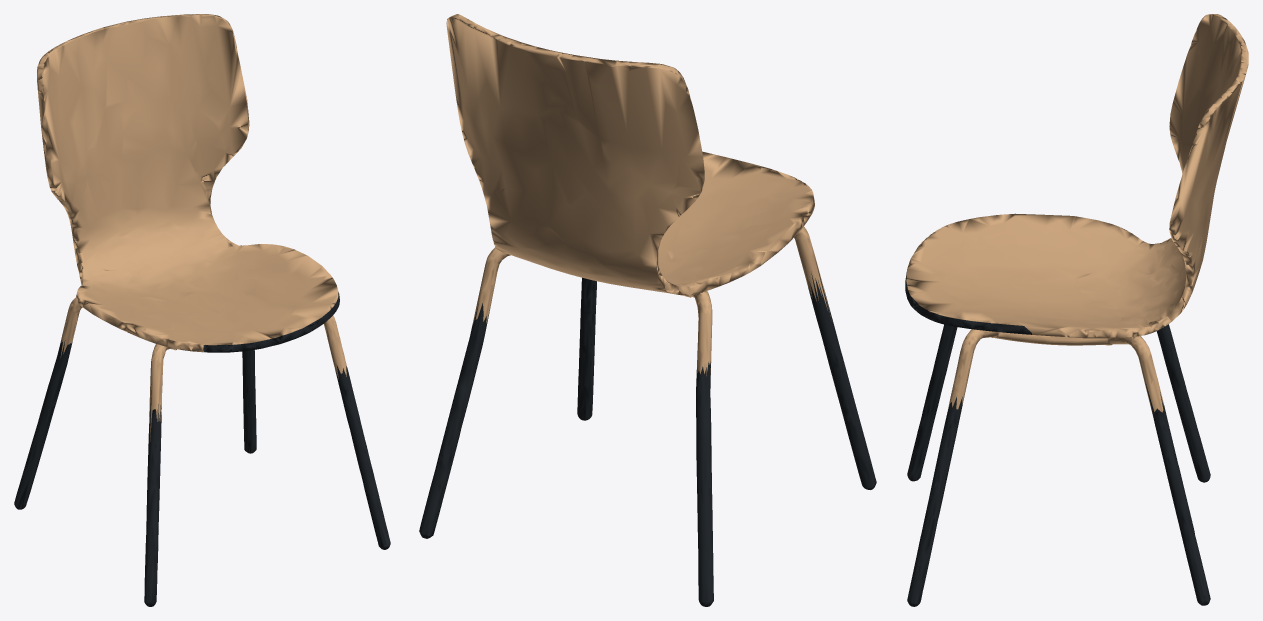
The model's file is BB_Chair_Master_002.fbx.
3 views of the same model, side by side, from view 1: azimuth 30°, elevation 25°; view 2: azimuth 150°, elevation 25°; view 3: azimuth 270°, elevation 25° (orthographic). The views are drawn at different scales.
Parts seen in each view (by area): view 1: BB_Chair_Master_002_01_mesh_node_01_mesh_node; view 2: BB_Chair_Master_002_01_mesh_node_01_mesh_node; view 3: BB_Chair_Master_002_01_mesh_node_01_mesh_node.
Boxes of the visible parts, x1,y1,x2,y2 form: BB_Chair_Master_002_01_mesh_node_01_mesh_node: [14, 14, 390, 606]; BB_Chair_Master_002_01_mesh_node_01_mesh_node: [419, 14, 876, 606]; BB_Chair_Master_002_01_mesh_node_01_mesh_node: [905, 14, 1248, 606].
Bounding box in the file's own units: 49.73 × 86 × 55.03.
